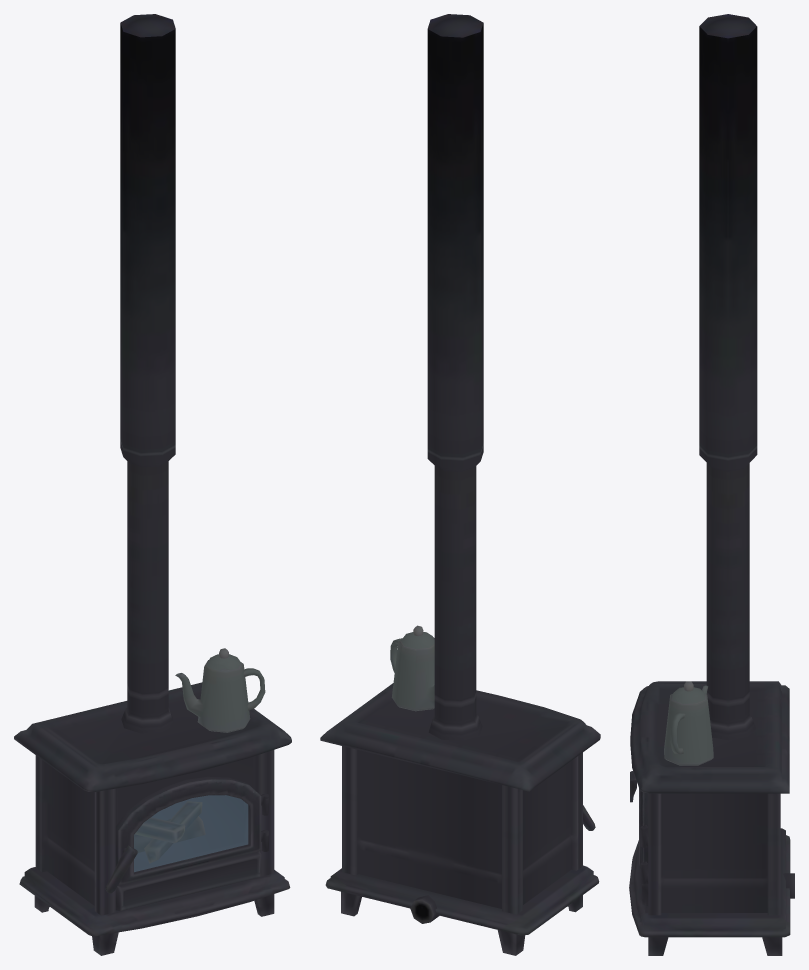
3 renders of one model, left to right at view 1: azimuth 30°, elevation 25°; view 2: azimuth 150°, elevation 25°; view 3: azimuth 270°, elevation 25°, orthographic.
Size of the model in its own units: 9.85 by 40 by 6.77.
2 materials, 1 textured.
